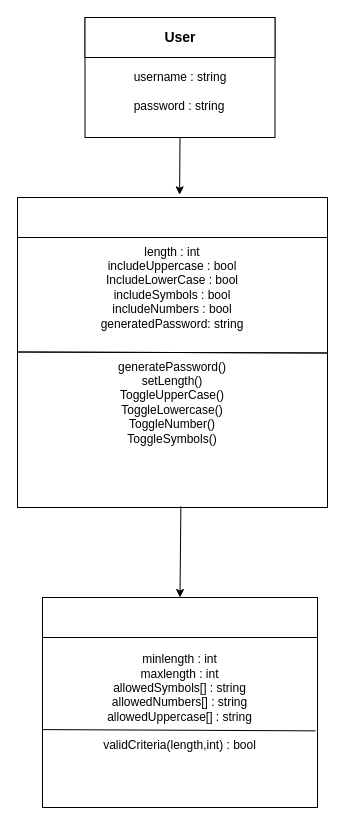
Some shapes in this 346 by 825 pixel diagram are drawn without their labels. Here are the shapes that lost their labels. From the top down, the box of each, then its label:
(16, 196, 328, 238): PASSWORD GENERATOR
(42, 596, 318, 638): PASSWORD CRITERIA
